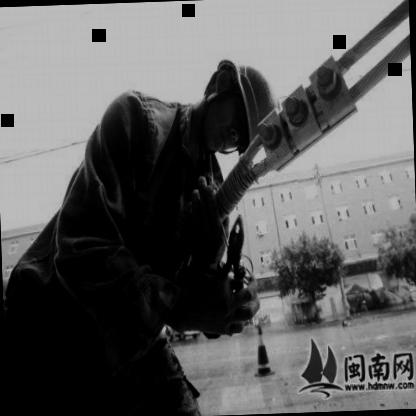helmet: (193, 54, 279, 158)
